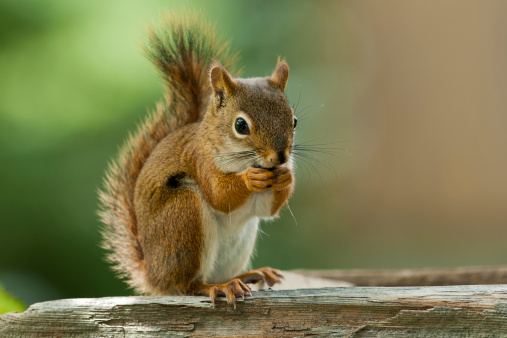squirrel: (110, 22, 302, 309)
